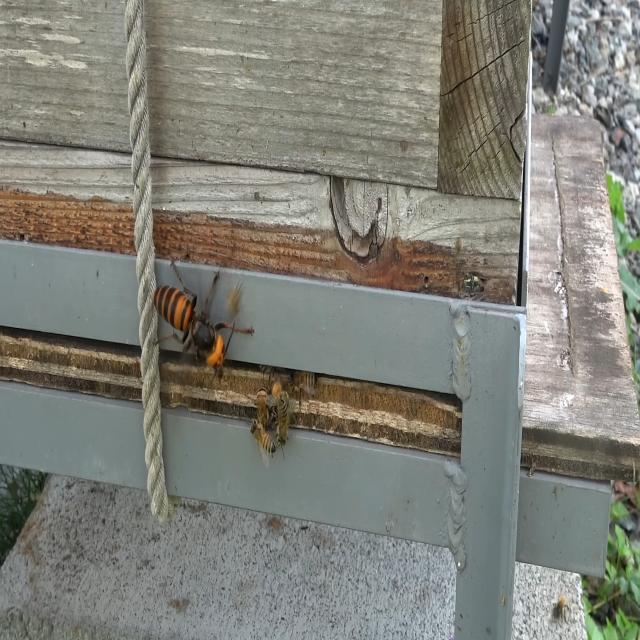Bees: (285, 370, 320, 411), (249, 416, 275, 468), (273, 390, 290, 461)
Hornets: (151, 258, 255, 390)
